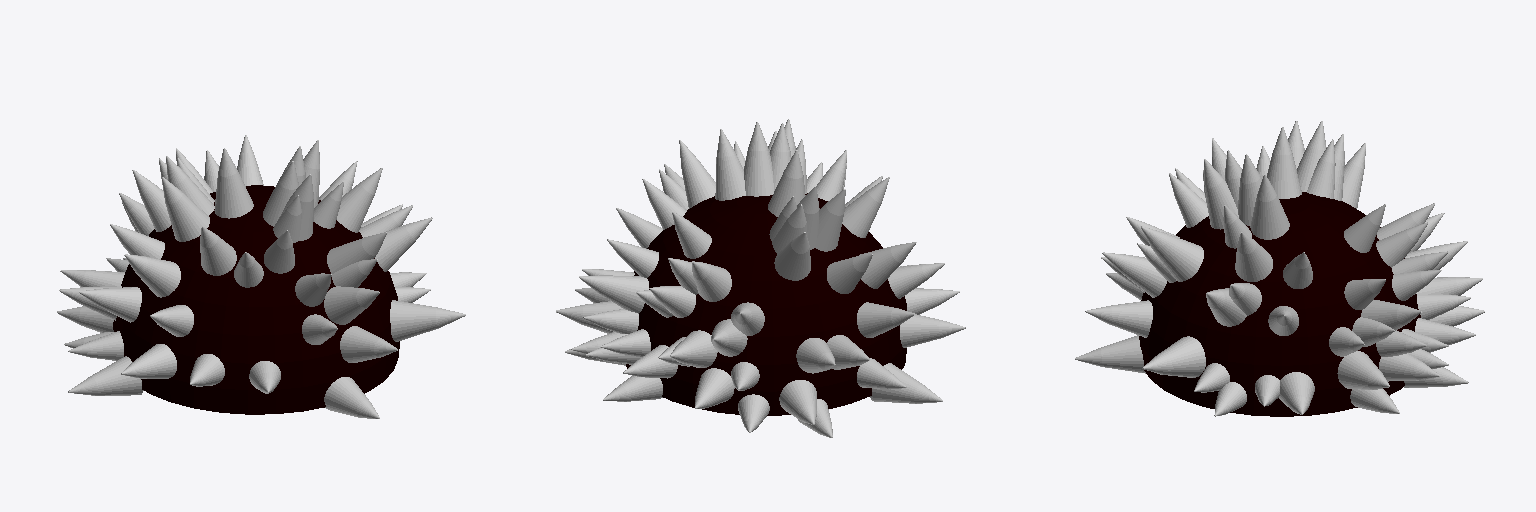
File: spike.obj
3 renders of one model, left to right at view 1: azimuth 30°, elevation 25°; view 2: azimuth 150°, elevation 25°; view 3: azimuth 270°, elevation 25°, orthographic.
Visible parts, largest first — view 1: Sphere; view 2: Sphere; view 3: Sphere.
Boxes of the visible parts, x1,y1,x2,y2 form: Sphere: [57, 135, 465, 418]; Sphere: [556, 119, 965, 437]; Sphere: [1075, 121, 1484, 416].
Size of the model in its own units: 2.9 by 1.76 by 2.85.